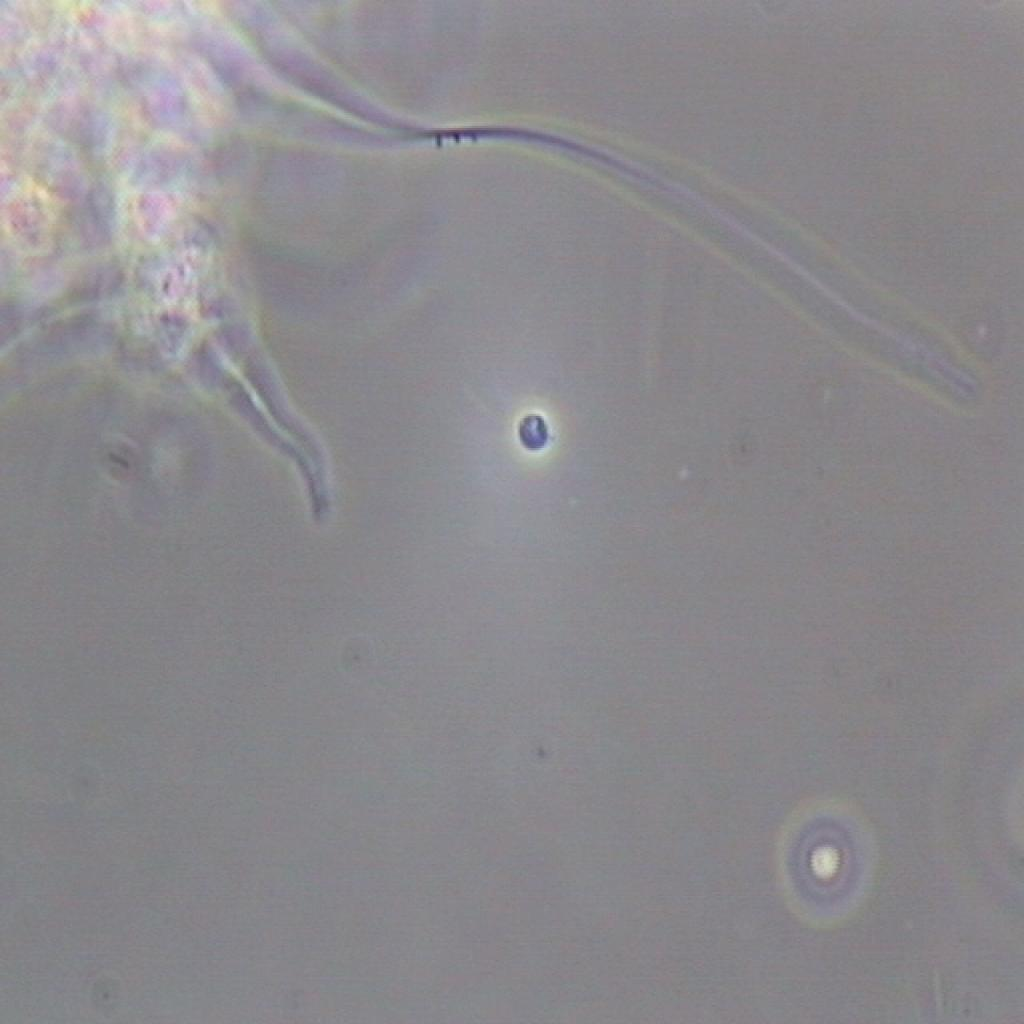Flagellates: (507, 399, 565, 474)
